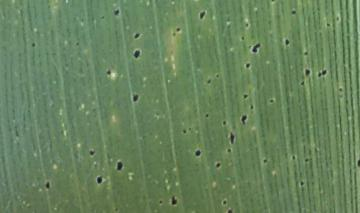tarspot: (249, 41, 265, 56), (226, 128, 237, 148), (168, 191, 180, 209), (196, 8, 210, 22), (94, 172, 107, 187), (315, 68, 331, 80), (130, 47, 145, 59), (302, 64, 314, 79), (334, 83, 347, 96), (131, 29, 143, 43), (129, 91, 141, 104), (239, 112, 250, 126), (282, 36, 293, 50), (299, 48, 312, 59), (102, 66, 114, 77), (111, 7, 123, 18), (72, 38, 84, 49), (297, 77, 307, 90), (115, 157, 123, 173), (86, 147, 96, 159), (218, 118, 230, 128), (304, 155, 314, 167), (43, 179, 52, 192), (193, 147, 203, 158), (28, 38, 37, 50), (202, 110, 211, 122), (267, 96, 276, 107), (243, 61, 254, 70), (288, 8, 299, 17), (243, 19, 251, 31), (240, 93, 253, 100), (179, 128, 189, 137), (213, 160, 223, 169), (260, 155, 269, 165), (248, 101, 257, 111), (203, 77, 213, 86), (238, 34, 248, 43), (155, 198, 166, 206), (225, 205, 236, 213), (174, 25, 185, 33), (324, 21, 333, 30), (219, 197, 229, 205), (298, 180, 308, 188), (354, 157, 360, 170), (289, 152, 297, 161), (225, 145, 232, 155), (265, 1, 281, 5)
